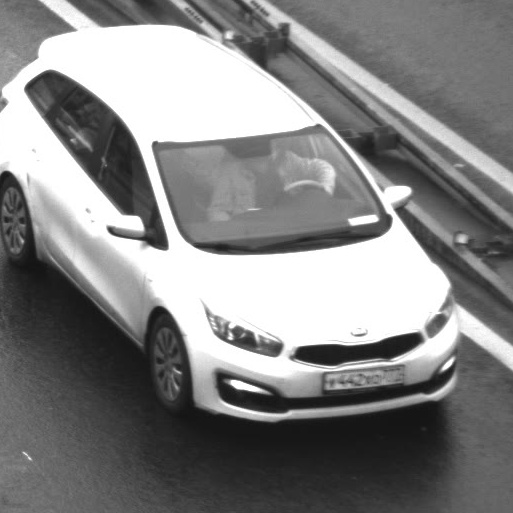plate: (312, 354, 416, 397)
